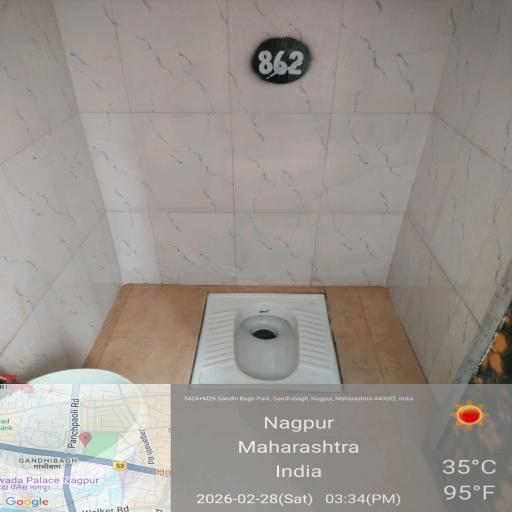clean_floor: (85, 262, 469, 512), (34, 13, 483, 200)
clean_indian: (173, 293, 362, 406)
